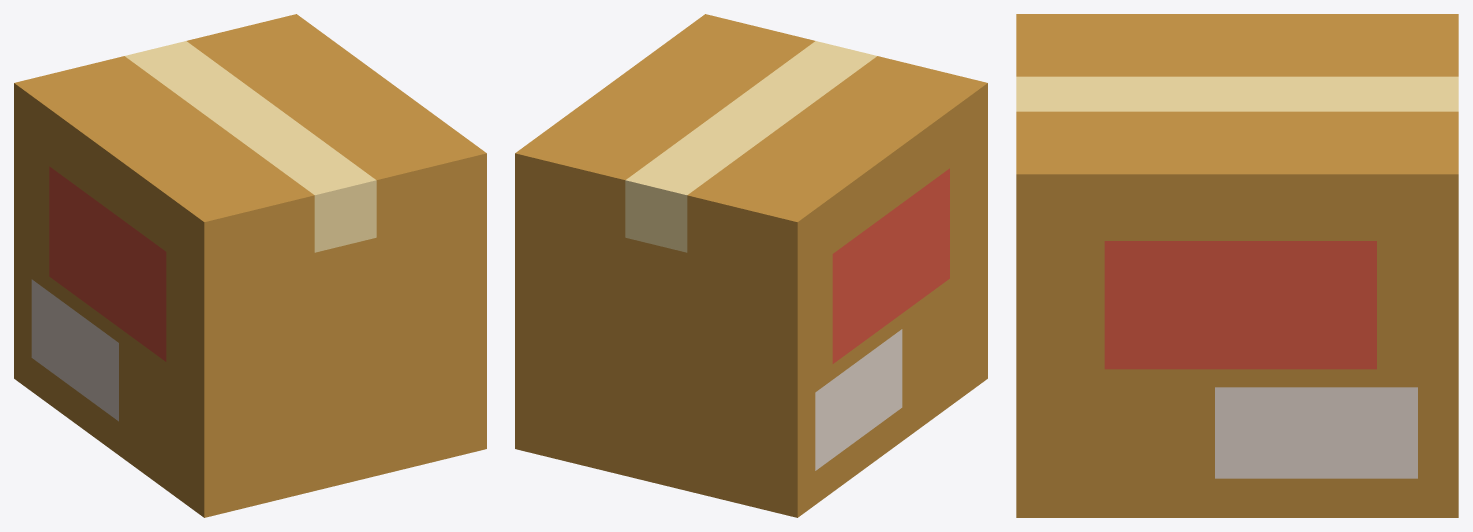
The model's file is Brown_Return_Box.fbx.
3 views of the same model, side by side, from view 1: azimuth 30°, elevation 25°; view 2: azimuth 150°, elevation 25°; view 3: azimuth 270°, elevation 25° (orthographic). The views are drawn at different scales.
Parts seen in each view (by area): view 1: Brown_Return_Box; view 2: Brown_Return_Box; view 3: Brown_Return_Box.
Boxes of the visible parts, x1,y1,x2,y2 form: Brown_Return_Box: (14,14,486,517); Brown_Return_Box: (515,14,987,517); Brown_Return_Box: (1016,14,1458,517).
Size of the model in its own units: 30 by 30 by 35.
